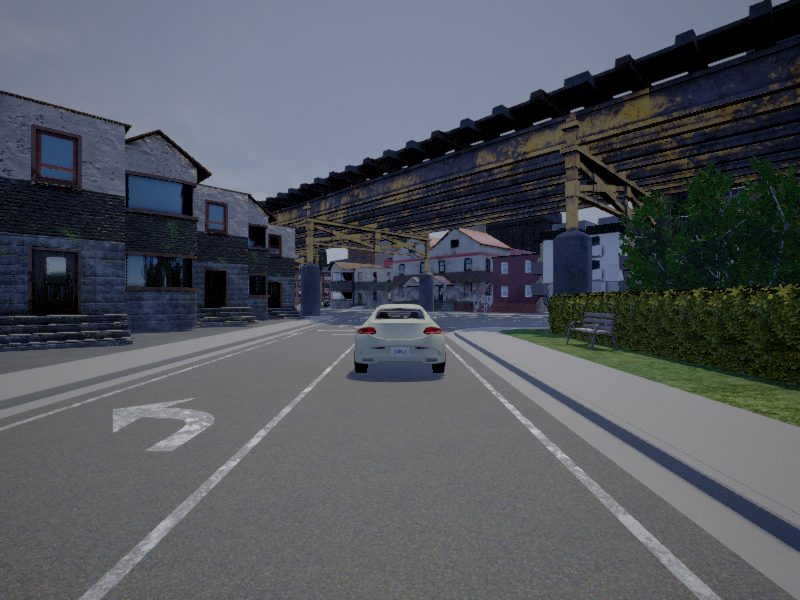Benign: (353, 304, 445, 375)
